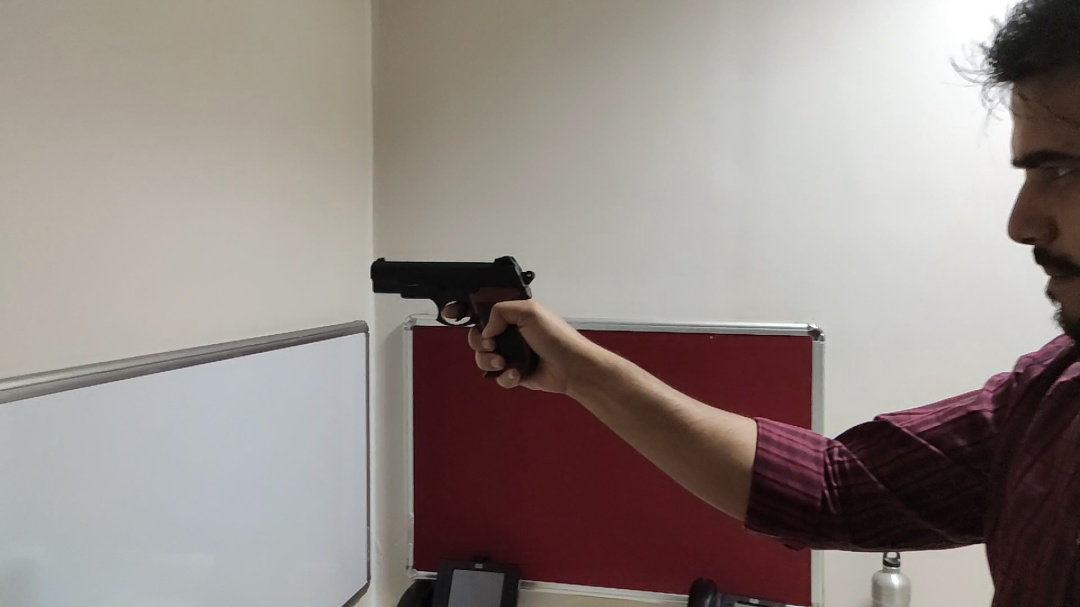gun: (370, 255, 547, 380)
